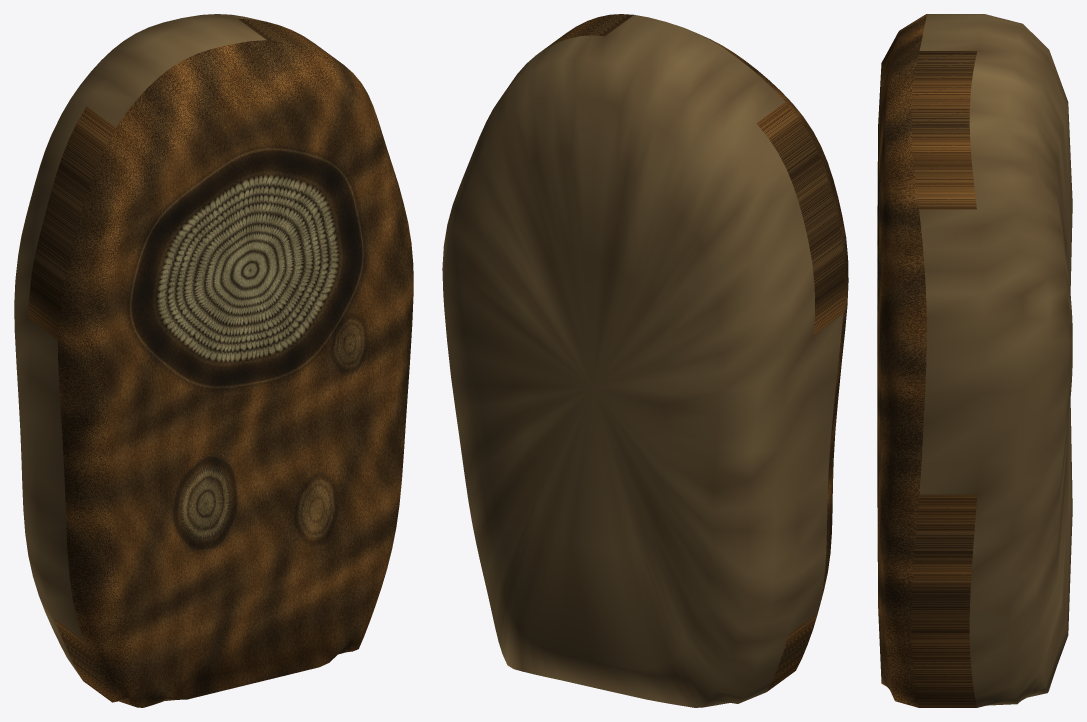
The picture shows the model from 3 angles, left to right: view 1: azimuth 30°, elevation 25°; view 2: azimuth 150°, elevation 25°; view 3: azimuth 270°, elevation 25°; orthographic projection.
Parts seen in each view (by area): view 1: Sunflower stone | polished front and rounded slab; view 2: Sunflower stone | polished front and rounded slab; view 3: Sunflower stone | polished front and rounded slab.
Part boxes in pixels (<box>): Sunflower stone | polished front and rounded slab: <box>14,14,413,707</box>; Sunflower stone | polished front and rounded slab: <box>442,14,848,707</box>; Sunflower stone | polished front and rounded slab: <box>877,14,1072,707</box>.
Bounding box in the file's own units: 0.4823 × 0.81 × 0.2328.
Materials: 2 (1 with a texture image).
